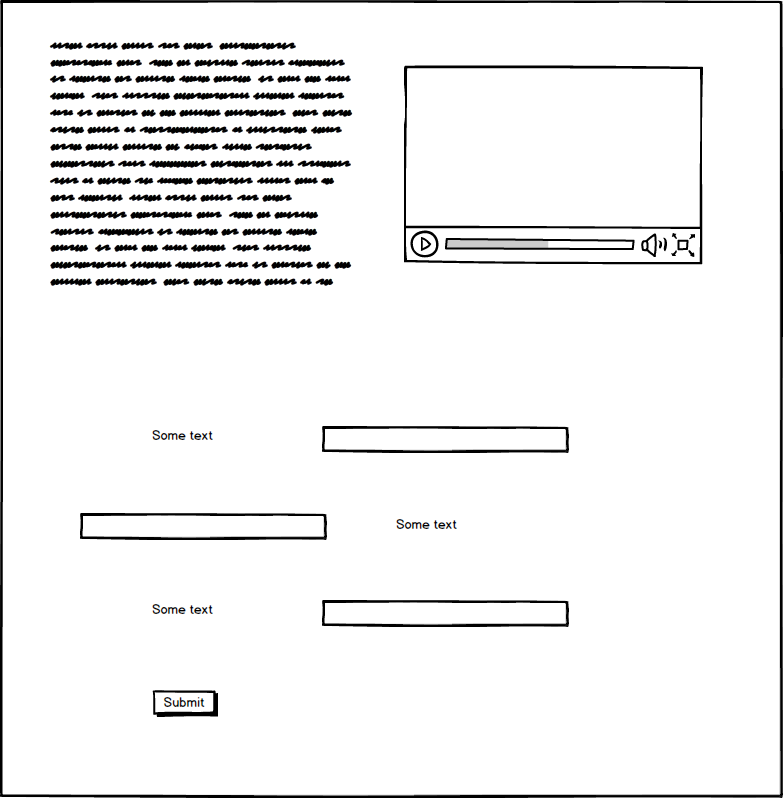button: (145, 686, 223, 723)
input: (312, 596, 582, 633), (72, 507, 333, 545), (317, 422, 576, 458)
label: (145, 423, 217, 451), (145, 597, 221, 619), (393, 517, 460, 535)
p: (42, 35, 370, 293)
video: (393, 60, 714, 269)
